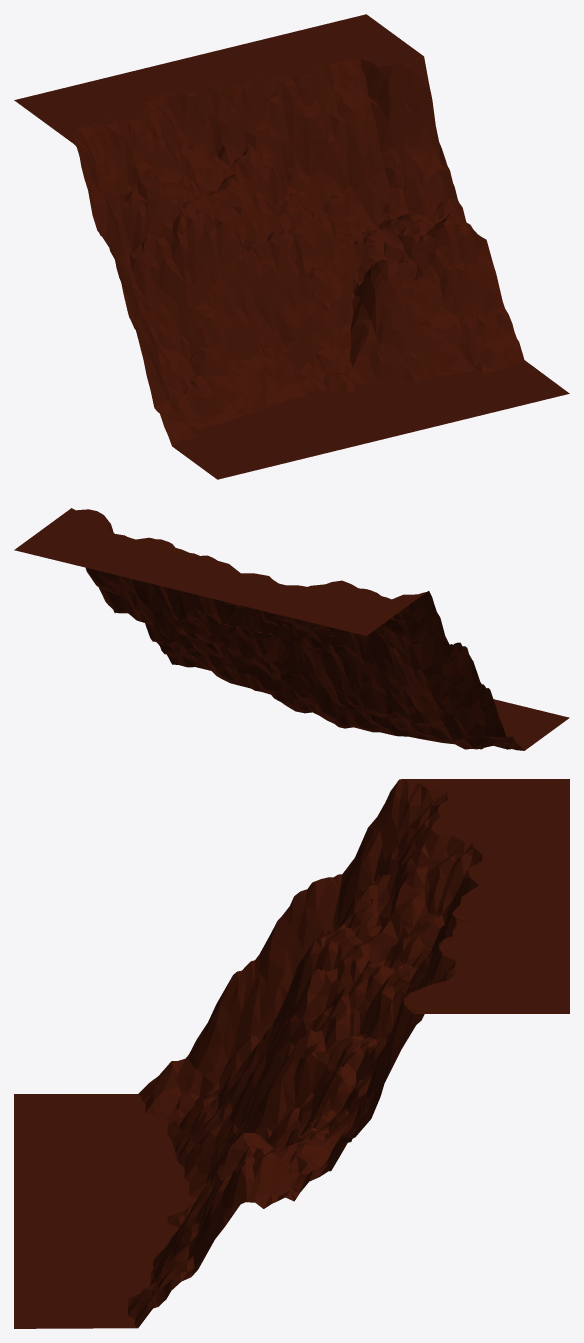
Rendered from Cliff1.FBX.
The picture shows the model from 3 angles, top to bottom: view 1: azimuth 30°, elevation 25°; view 2: azimuth 150°, elevation 25°; view 3: azimuth 270°, elevation 25°; orthographic projection. The views are drawn at different scales.
Visible parts, largest first — view 1: Landscape.005; view 2: Landscape.005; view 3: Landscape.005.
Boxes of the visible parts, left/top/right/bottom form: Landscape.005: left=14, top=14, right=569, bottom=479; Landscape.005: left=14, top=508, right=569, bottom=750; Landscape.005: left=14, top=779, right=569, bottom=1328.
Bounding box in the file's own units: 78.87 × 49.21 × 78.74.
